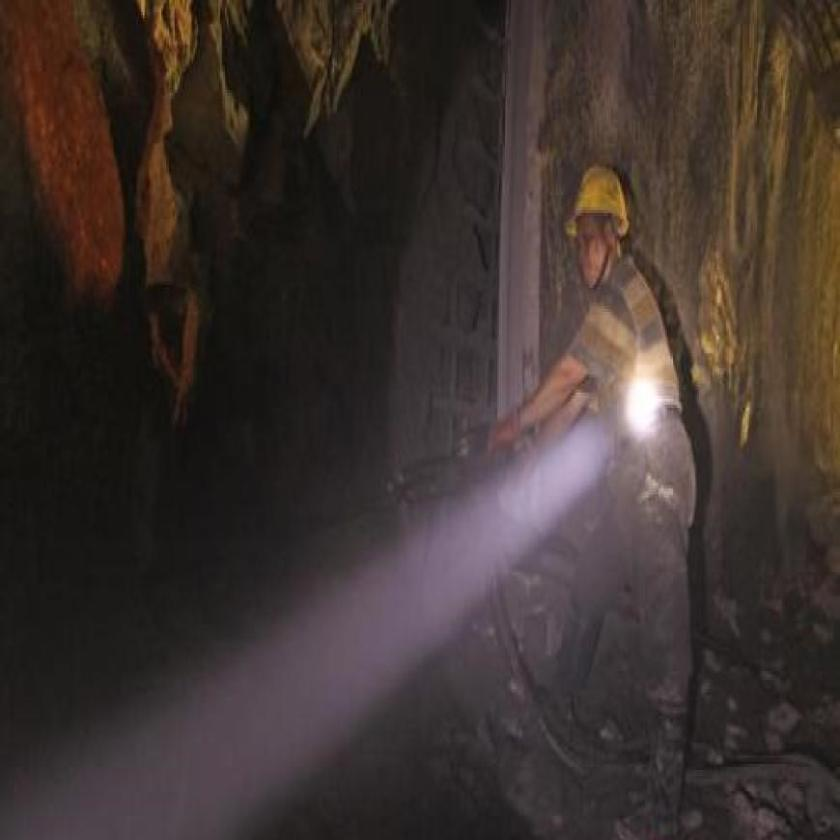Con_casco: (562, 162, 634, 292)
